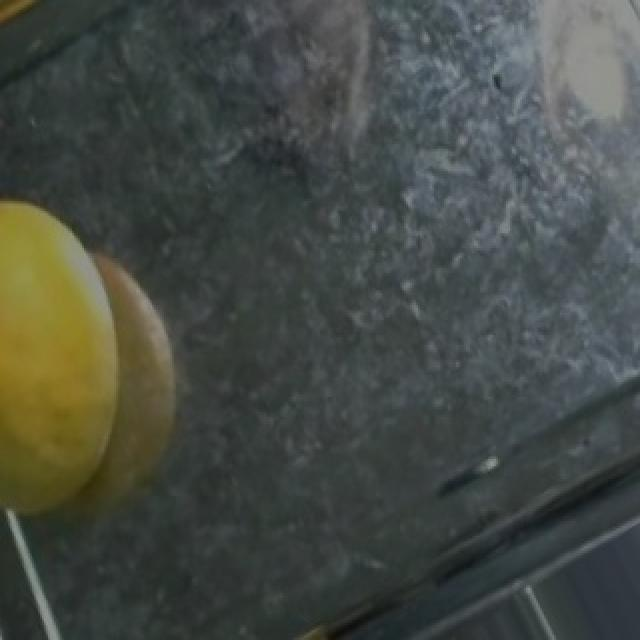fruit: (0, 174, 250, 553), (506, 0, 640, 179)
